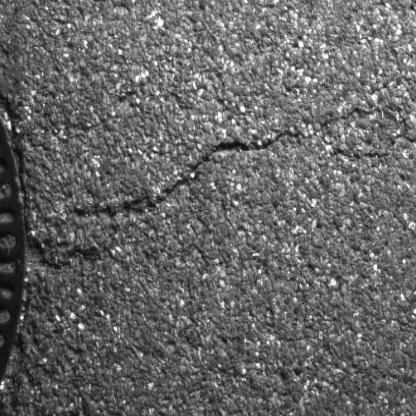Cracks: (66, 102, 383, 226)
